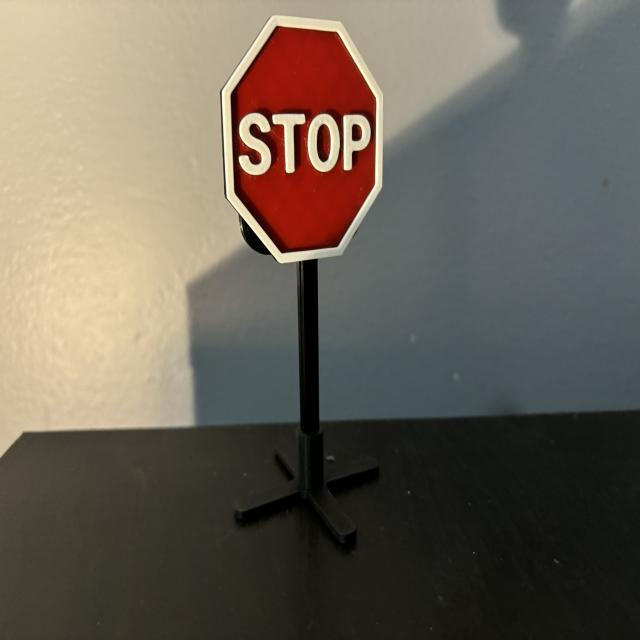sign_stop: (222, 15, 384, 263)
